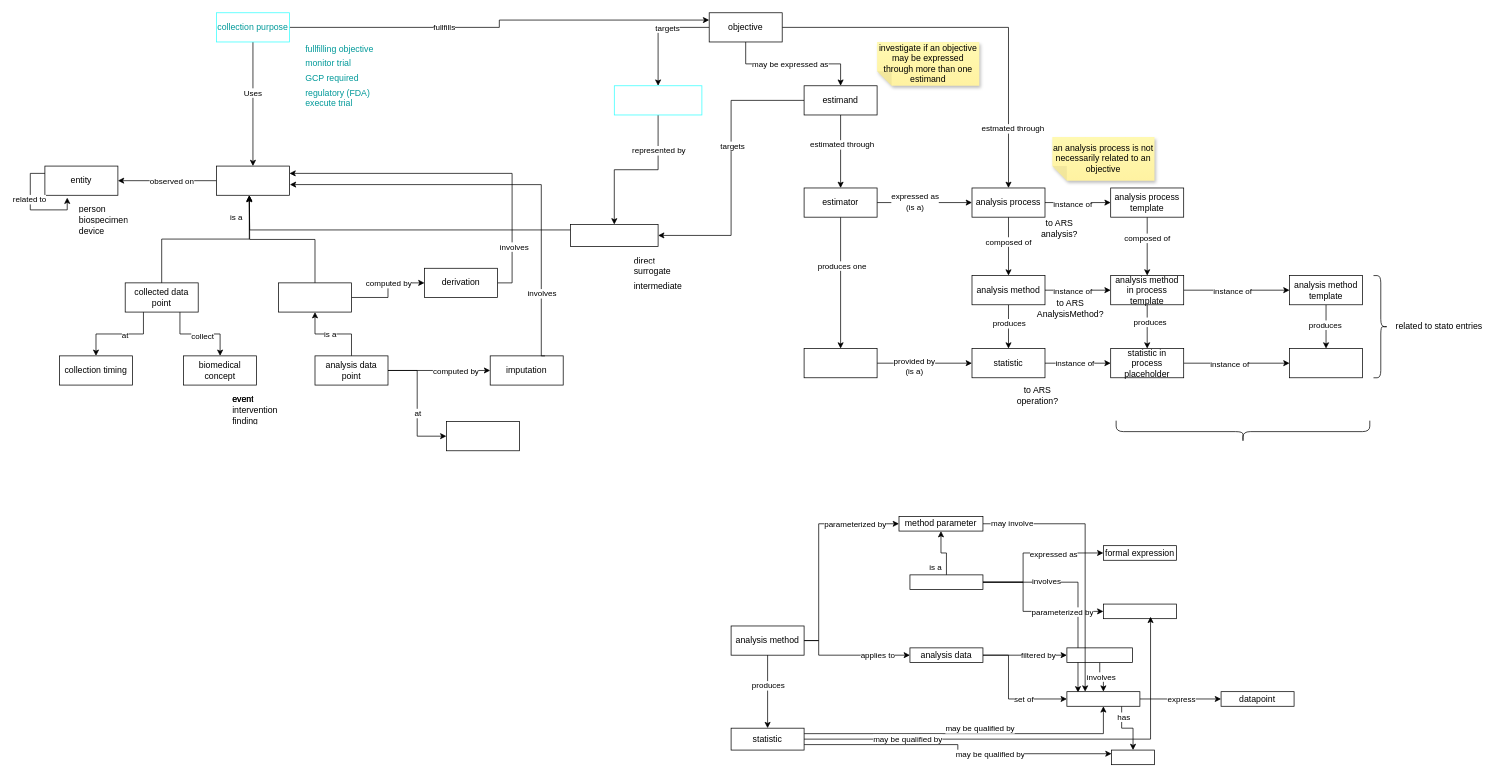
The diagram is 1503 pixels wide and 777 high, and some of its shapes have lost their labels. Each missing label, with the centre of its shape:
analysis timing: point 482,436
analysis variable: point 1103,698
data filter: point 1099,654
data point: point 252,180
derived data point: point 314,297
endpoint: point 614,235
entries in reference library: point 1242,431
estimate: point 840,363
model: point 946,581
model parameter: point 1139,611
outcome of interrest: point 658,100
statistic placeholder: point 1326,363
value: point 1132,757
